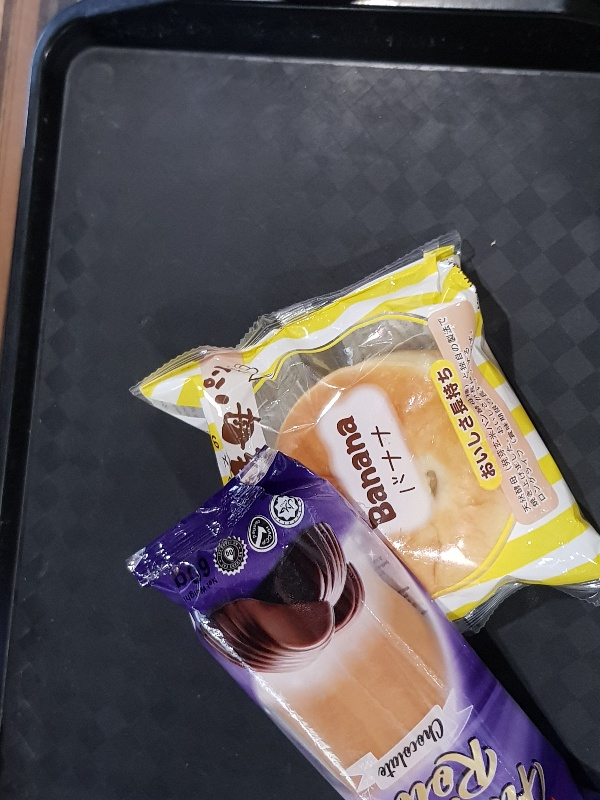Dayplus Banana: (127, 228, 600, 637)
Tinges Roll Chocolate: (130, 445, 572, 800)
